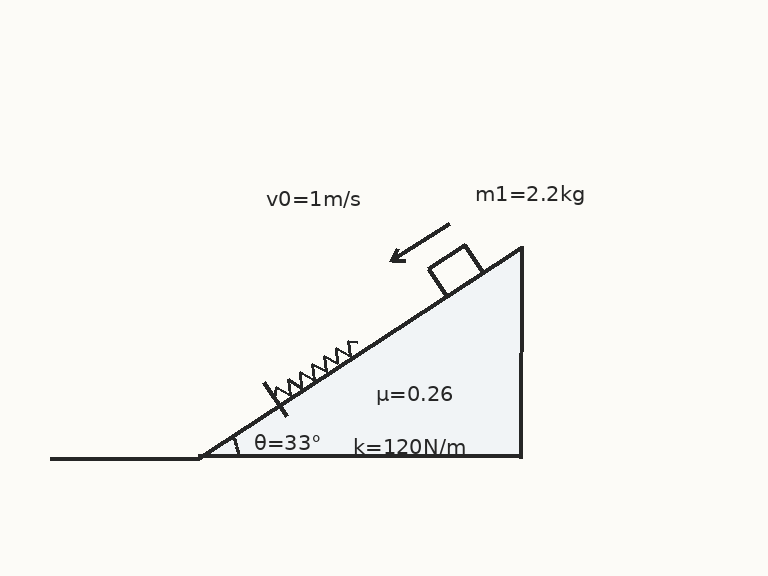block: (426, 243, 485, 298)
ramp: (196, 245, 523, 459)
spring: (272, 339, 360, 399)
